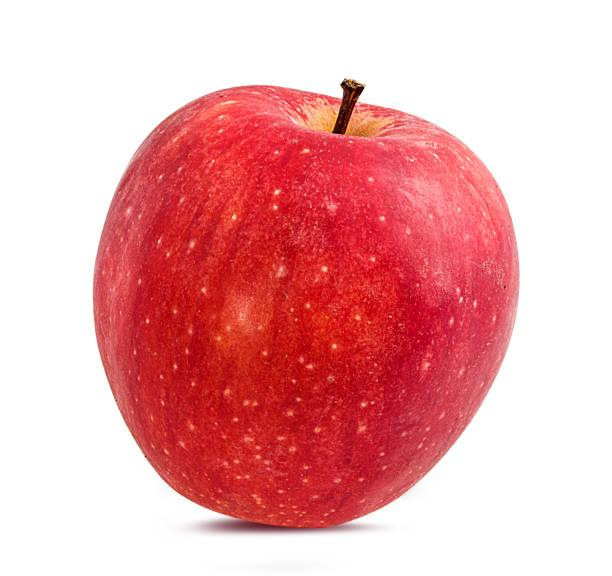apple: (71, 55, 540, 550)
